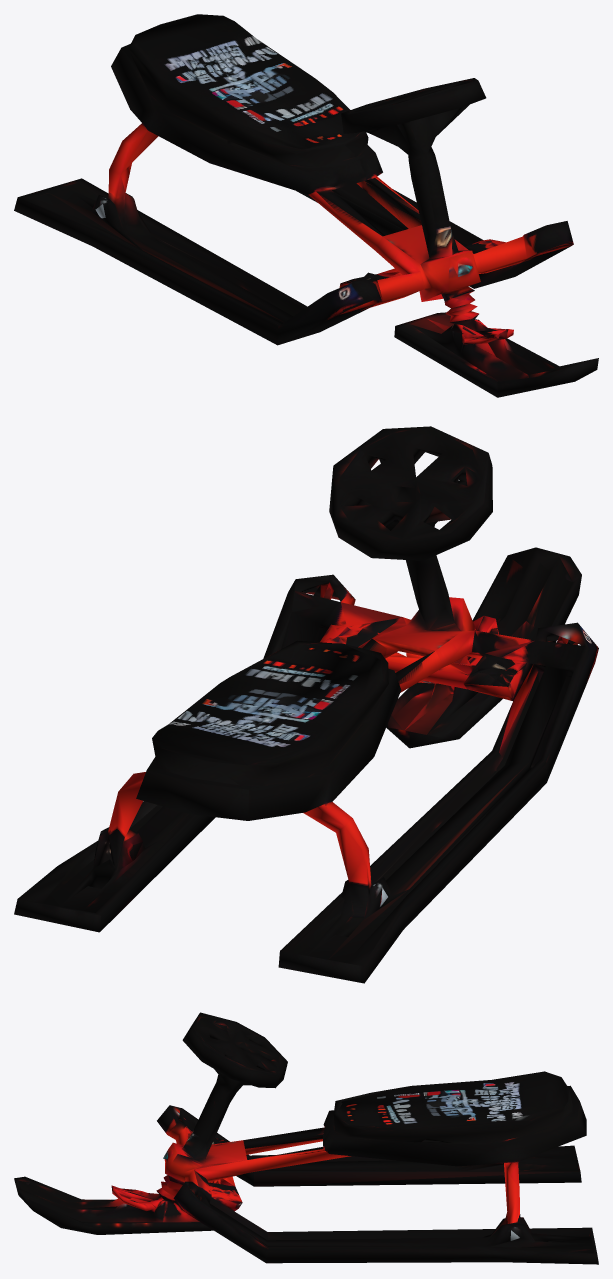
The model's file is Shegokat_01.fbx.
3 renders of one model, top to bottom at view 1: azimuth 30°, elevation 25°; view 2: azimuth 150°, elevation 25°; view 3: azimuth 270°, elevation 25°, orthographic. The views are drawn at different scales.
Visible parts, largest first — view 1: texture_pbr_v128; view 2: texture_pbr_v128; view 3: texture_pbr_v128.
Boxes of the visible parts, x1=… form: texture_pbr_v128: x1=14, y1=14, x2=598, y2=397; texture_pbr_v128: x1=14, y1=426, x2=598, y2=983; texture_pbr_v128: x1=14, y1=1012, x2=598, y2=1264.
Size of the model in its own units: 49.33 by 39.48 by 105.
